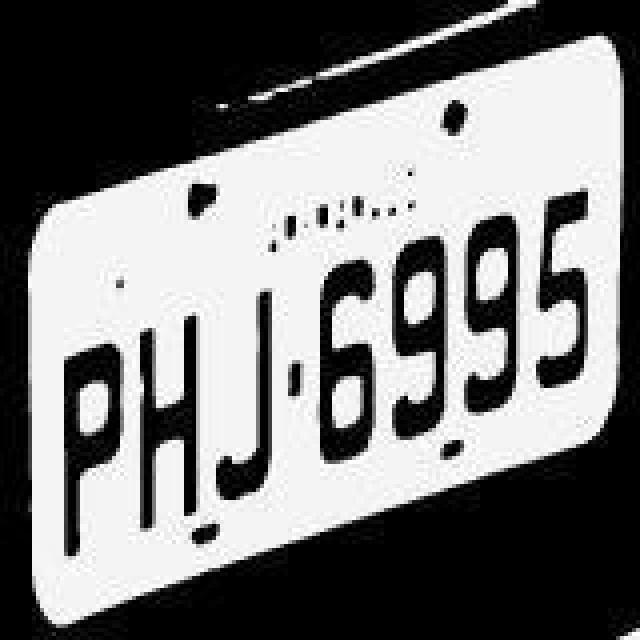5: (530, 176, 598, 392)
6: (312, 244, 384, 476)
9: (460, 196, 532, 412), (386, 224, 454, 440)
H: (132, 294, 204, 530)
J: (208, 282, 280, 510)
P: (60, 324, 132, 564)
